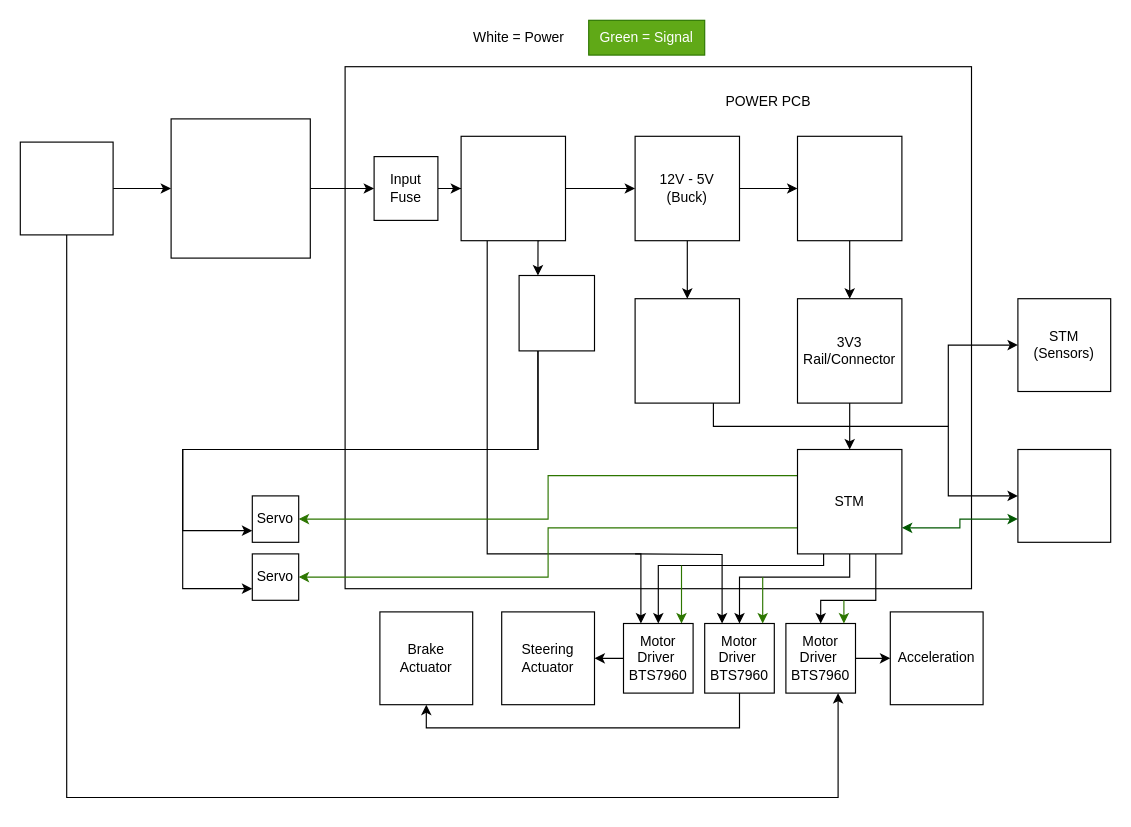
Some shapes in this 1131 by 827 pixel diagram are drawn without their labels. Here are the shapes that lost their labels. From the top down, the centre of each, then its label:
At pixel 66 188: "24V".
At pixel 240 188: "24V - 12V Converter".
At pixel 513 188: "12V Rail/Connector".
At pixel 849 188: "5V - 3V3 (LDO)".
At pixel 556 312: "12V - 6V (Buck)".
At pixel 687 350: "5V Rail/Connector".
At pixel 1064 495: "Pi4".
